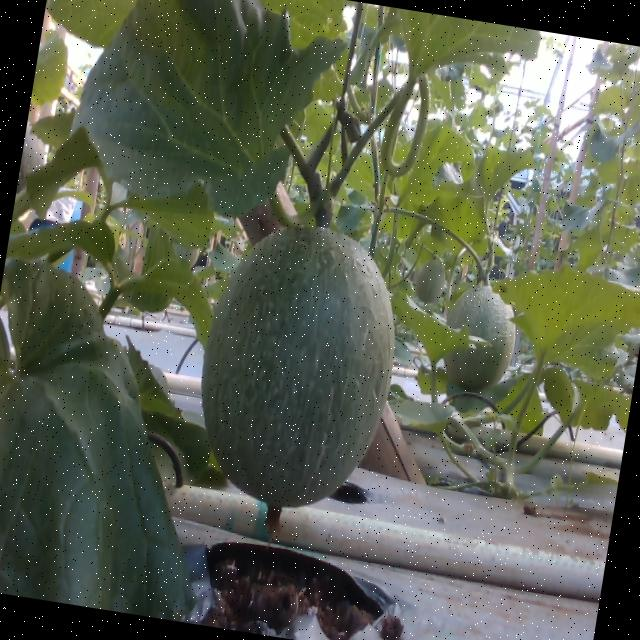melon: (203, 228, 395, 535)
